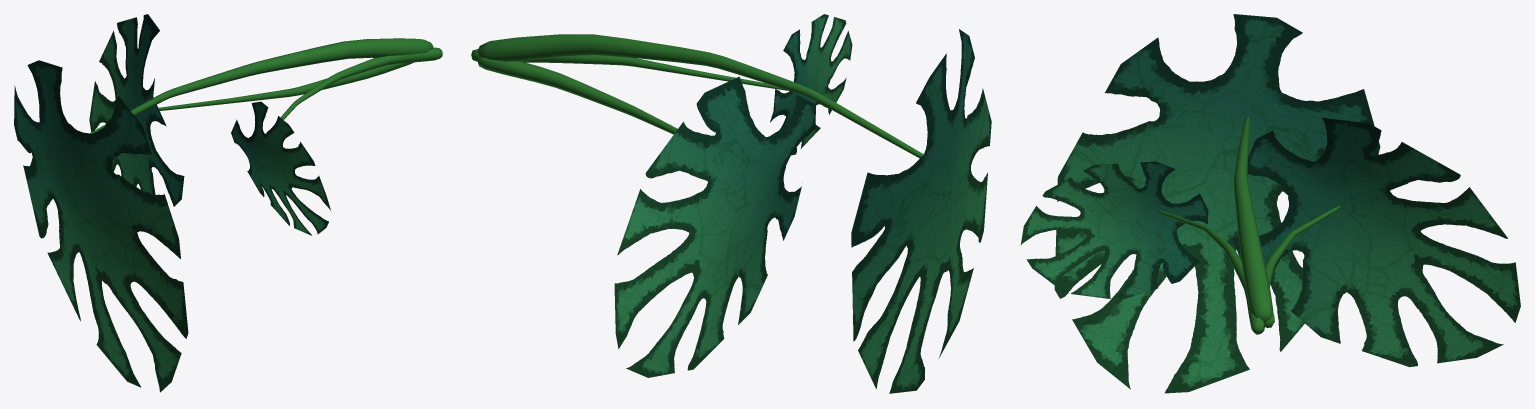
File: JunglePlant2.fbx
The picture shows the model from 3 angles, left to right: view 1: azimuth 30°, elevation 25°; view 2: azimuth 150°, elevation 25°; view 3: azimuth 270°, elevation 25°; orthographic projection. The views are drawn at different scales.
Parts seen in each view (by area): view 1: JunglePant; view 2: JunglePant; view 3: JunglePant.
Boxes of the visible parts, bbox=[...] form: JunglePant: bbox=[14, 14, 442, 392]; JunglePant: bbox=[471, 14, 991, 393]; JunglePant: bbox=[1020, 14, 1520, 393].
Size of the model in its own units: 99.88 by 78.02 by 103.
